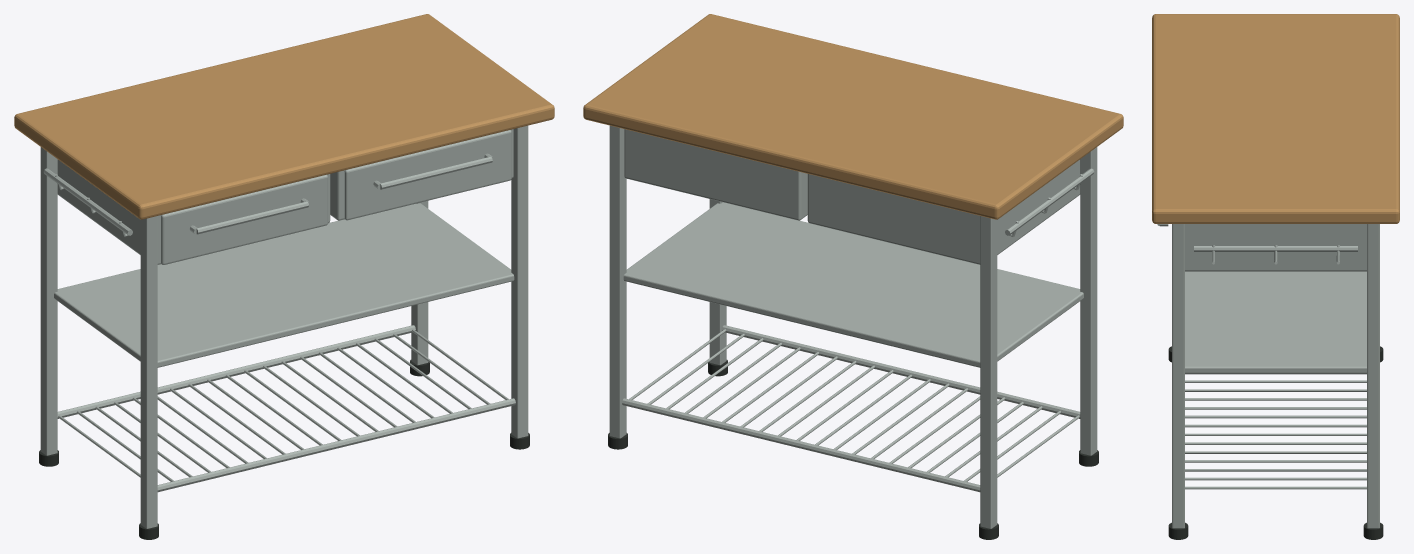
The model's file is rimforsa.glb.
The picture shows the model from 3 angles, left to right: view 1: azimuth 30°, elevation 25°; view 2: azimuth 150°, elevation 25°; view 3: azimuth 270°, elevation 25°; orthographic projection. The views are drawn at different scales.
Visible parts, largest first — view 1: rimforsa; view 2: rimforsa; view 3: rimforsa.
Boxes of the visible parts, <box> form: rimforsa: <box>14,14,554,539</box>; rimforsa: <box>583,14,1123,539</box>; rimforsa: <box>1152,14,1399,539</box>.
Bounding box in the file's own units: 1.2 × 0.9502 × 0.635.
